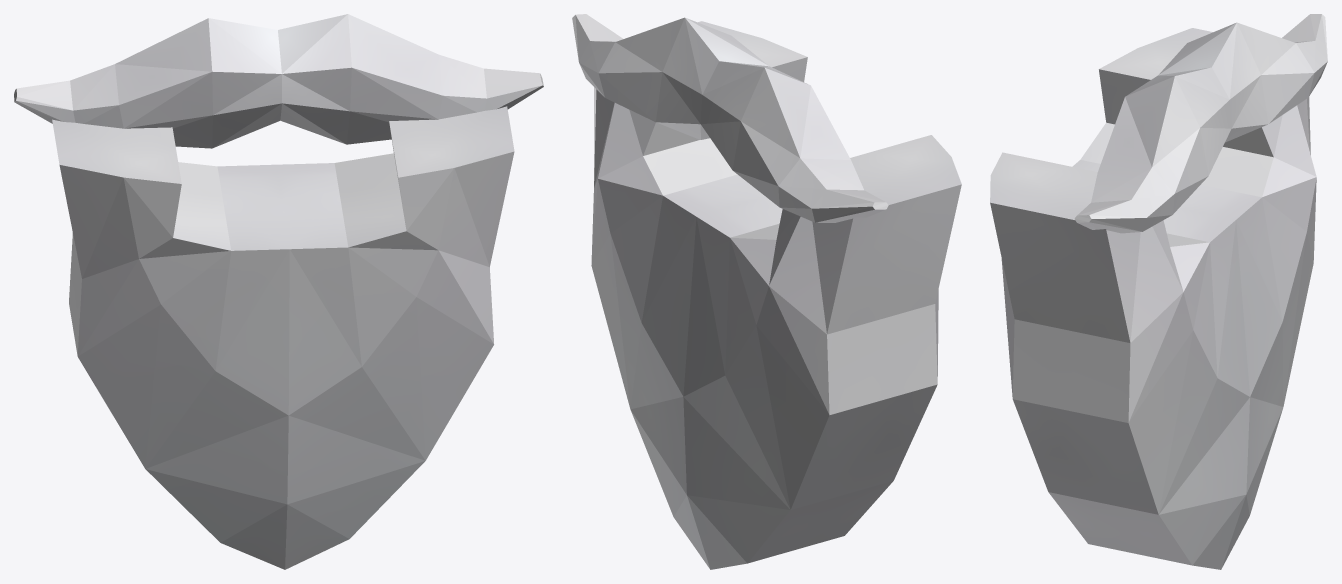
File: SANTA BEARD.fbx
The picture shows the model from 3 angles, left to right: view 1: azimuth 30°, elevation 25°; view 2: azimuth 150°, elevation 25°; view 3: azimuth 270°, elevation 25°; orthographic projection. The views are drawn at different scales.
Parts seen in each view (by area): view 1: SANTA_BEARD; view 2: SANTA_BEARD; view 3: SANTA_BEARD.
Boxes of the visible parts, bbox=[...] form: SANTA_BEARD: bbox=[14, 14, 543, 569]; SANTA_BEARD: bbox=[572, 14, 961, 569]; SANTA_BEARD: bbox=[990, 14, 1327, 569].
Size of the model in its own units: 17.79 by 20.18 by 11.94.
